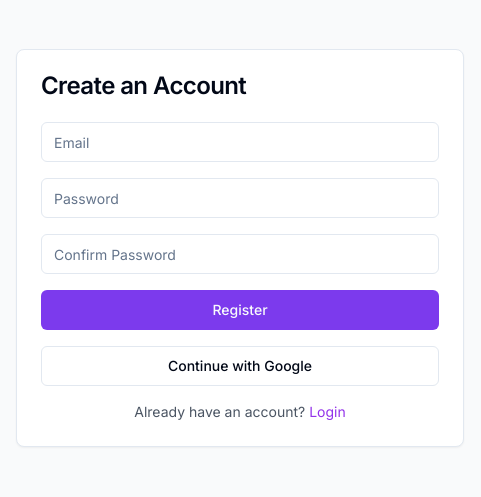
Test: RegisterPage › shows error message on registration failure
The width and height of the screenshot is (481, 497).
Type "existing@example.com" into the field with placeholder "Email" at {"x": 240, "y": 142}, box [41,122,439,162]
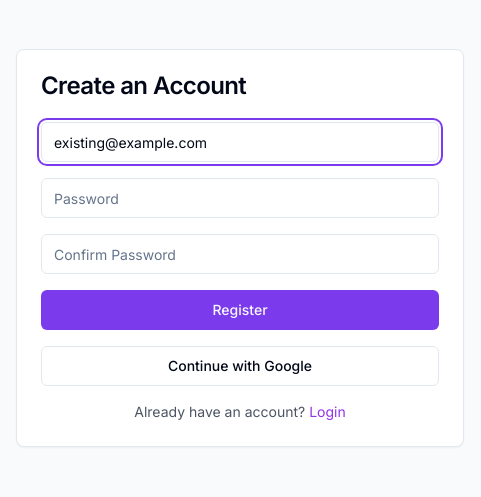
Type "password123" into the password field with placeholder "Password" at {"x": 240, "y": 198}, box [41,178,439,218]
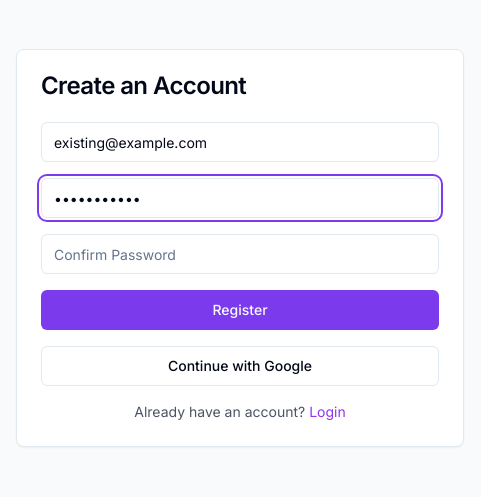
Type "password123" into the password field with placeholder "Confirm Password" at {"x": 240, "y": 254}, box [41,234,439,274]
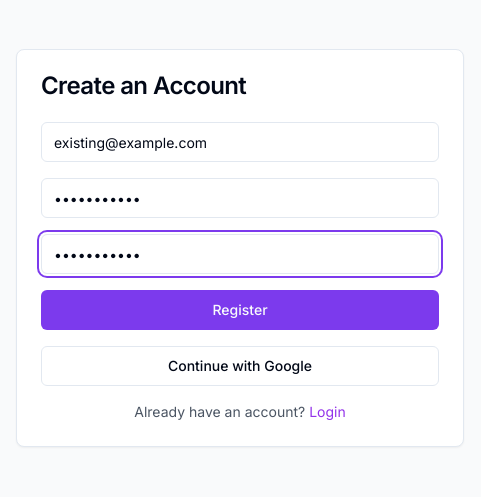
Click the button "Register" at {"x": 240, "y": 310}, box [41,290,439,330]
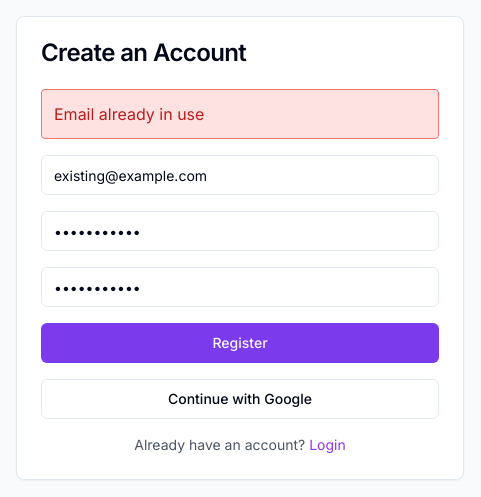
Result: the text "Email already in use" is shown at [41,89,439,139]
